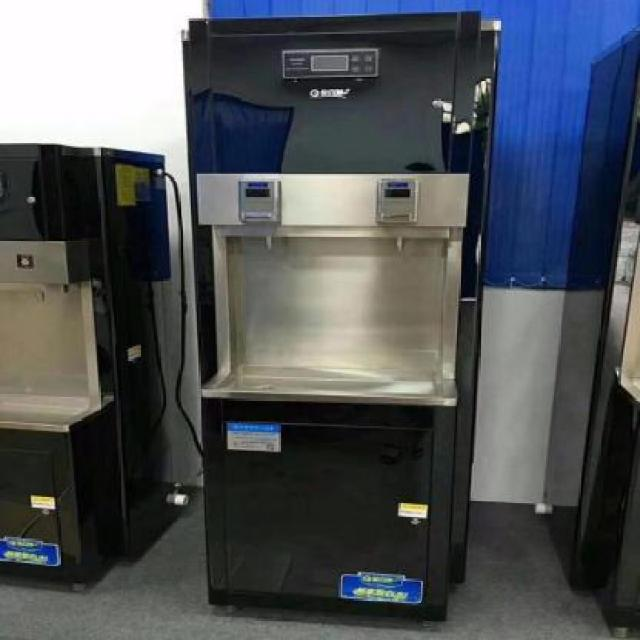cooler: (177, 8, 498, 632)
